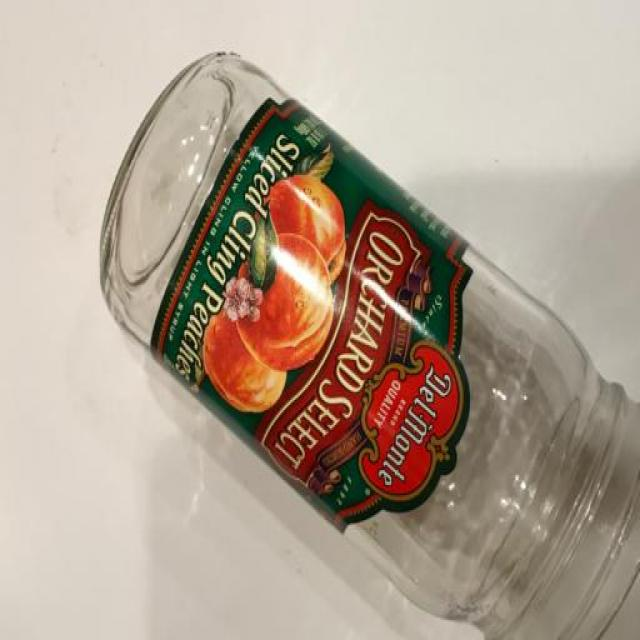glass: (97, 16, 640, 640)
